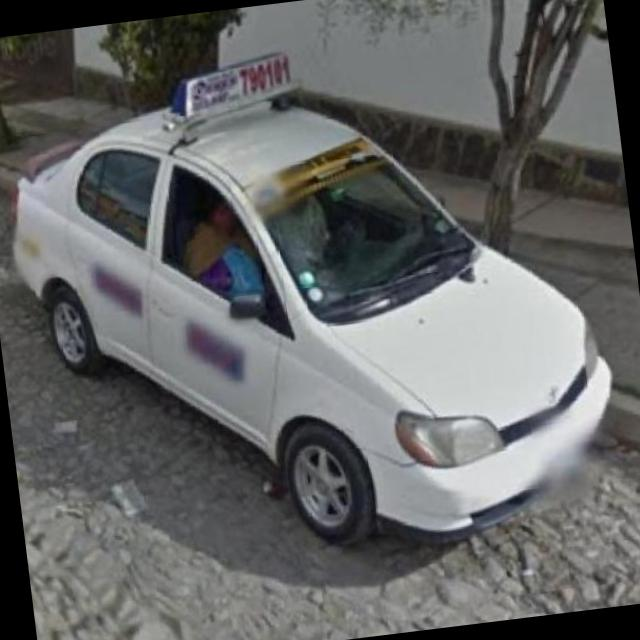car: (9, 39, 624, 582)
